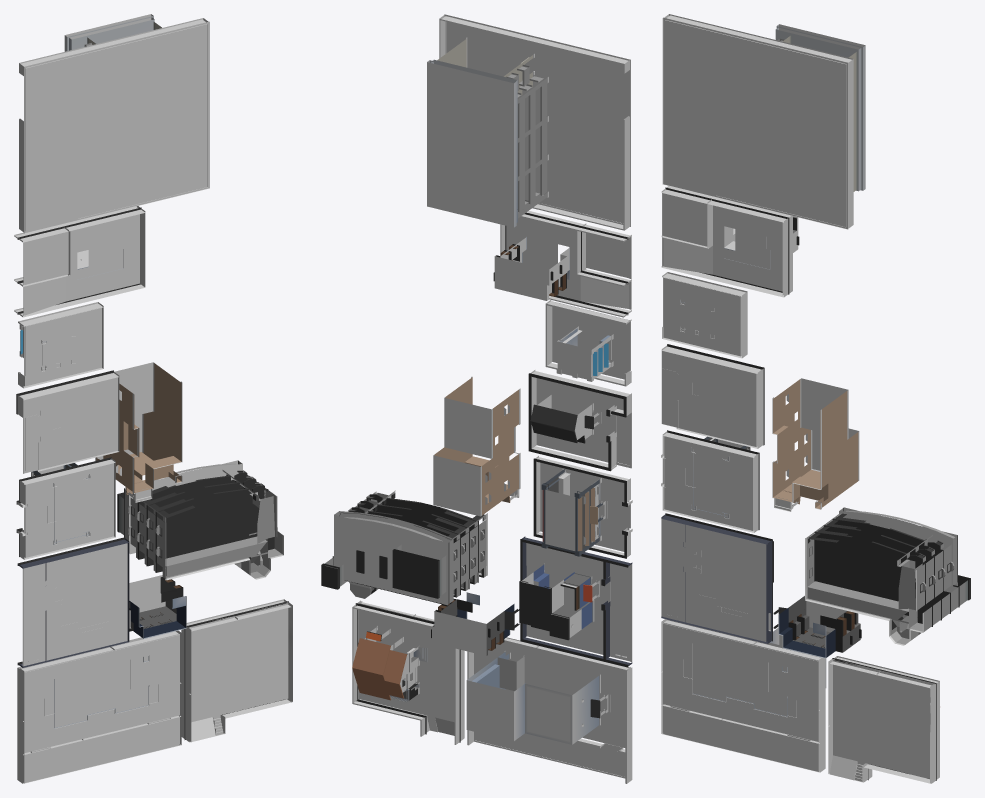
The model's file is SM_000273_merge_w40h101_atlas1_1_3_ground_lv4.fbx.
3 renders of one model, left to right at view 1: azimuth 30°, elevation 25°; view 2: azimuth 150°, elevation 25°; view 3: azimuth 330°, elevation 25°, orthographic.
Visible parts, largest first — view 1: SM_000273.001; view 2: SM_000273.001; view 3: SM_000273.001.
Part boxes in pixels (box(x1,y1,x2,y2)): SM_000273.001: box(14, 14, 292, 783); SM_000273.001: box(321, 14, 632, 783); SM_000273.001: box(661, 14, 970, 783).
Size of the model in its own units: 48.28 by 122 by 15.25.
